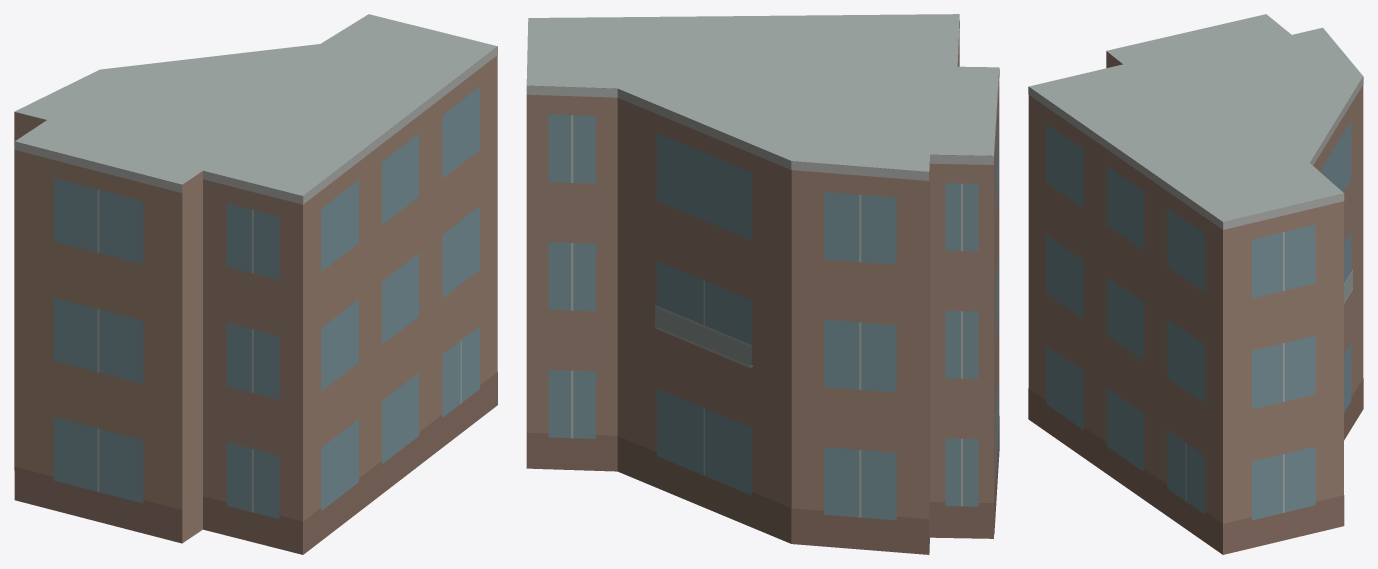
File: survey-upis-32963888.glb
The picture shows the model from 3 angles, left to right: view 1: azimuth 30°, elevation 25°; view 2: azimuth 150°, elevation 25°; view 3: azimuth 270°, elevation 25°; orthographic projection. The views are drawn at different scales.
Parts seen in each view (by area): view 1: survey-upis-32963888.tmp; view 2: survey-upis-32963888.tmp; view 3: survey-upis-32963888.tmp.
Part boxes in pixels (x1,y1,x2,y2): survey-upis-32963888.tmp: [14, 14, 497, 554]; survey-upis-32963888.tmp: [526, 14, 999, 554]; survey-upis-32963888.tmp: [1028, 14, 1363, 554].
Bounding box in the file's own units: 13.68 × 10.2 × 9.31.
